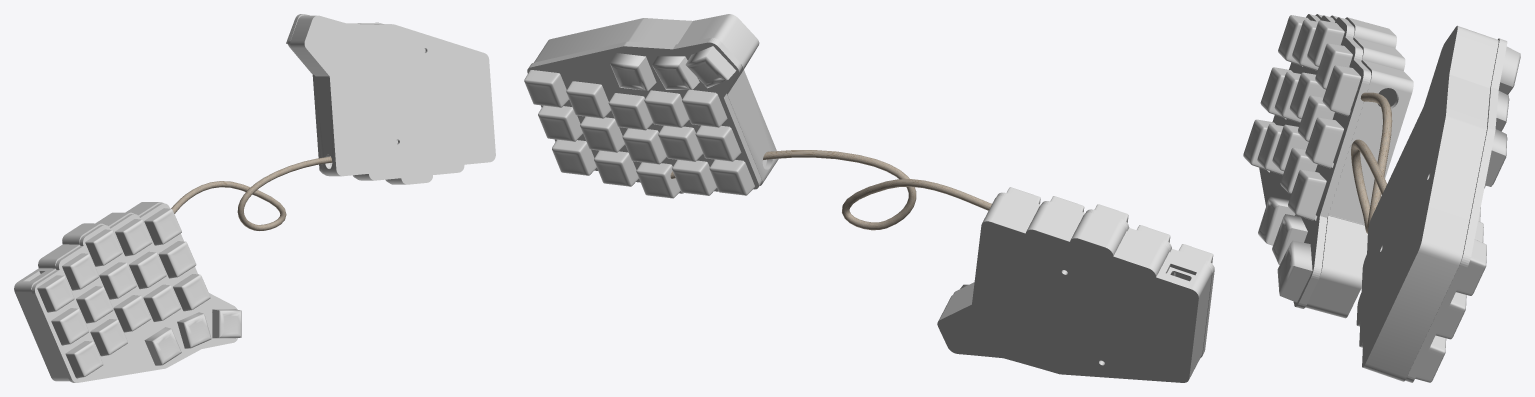
Rendered from customobj.gltf.
3 renders of one model, left to right at view 1: azimuth 30°, elevation 25°; view 2: azimuth 150°, elevation 25°; view 3: azimuth 270°, elevation 25°, orthographic. The views are drawn at different scales.
Visible parts, largest first — view 1: lewa-gura, Cube.012, BézierCurve; view 2: lewa-gura, Cube.012, BézierCurve; view 3: lewa-gura, Cube.012, BézierCurve.
Boxes of the visible parts, x1,y1,x2,y2 form: lewa-gura: (14, 14, 495, 382); Cube.012: (37, 20, 397, 378); BézierCurve: (171, 156, 332, 230); lewa-gura: (527, 14, 1214, 382); Cube.012: (524, 46, 1213, 288); BézierCurve: (670, 150, 991, 230); lewa-gura: (1259, 14, 1507, 382); Cube.012: (1243, 15, 1520, 382); BézierCurve: (1351, 92, 1392, 233).
Size of the model in its own units: 7.27 by 3.72 by 2.35.
2 materials, 1 textured.
